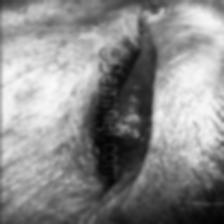Toxin: (102, 111, 140, 138)
